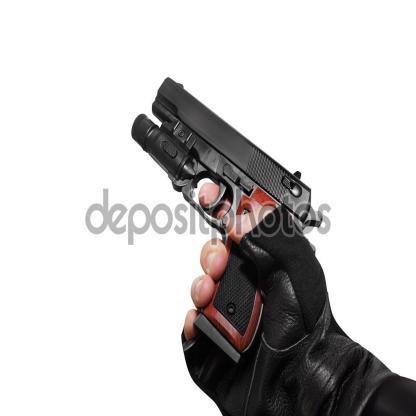pistol: (132, 59, 315, 360)
